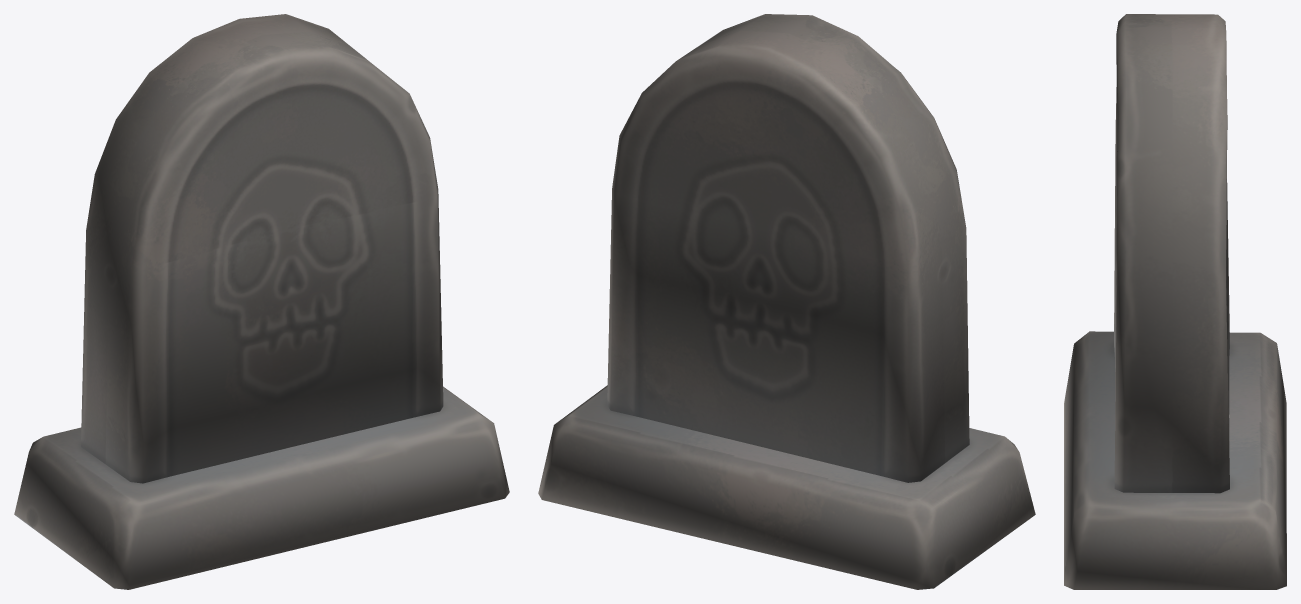
Rendered from ghost3_grave_intact.fbx.
3 views of the same model, side by side, from view 1: azimuth 30°, elevation 25°; view 2: azimuth 150°, elevation 25°; view 3: azimuth 270°, elevation 25° (orthographic).
Parts seen in each view (by area): view 1: grave_low; view 2: grave_low; view 3: grave_low.
Part boxes in pixels (bbox=[...]): grave_low: bbox=[14, 14, 509, 589]; grave_low: bbox=[538, 14, 1035, 589]; grave_low: bbox=[1064, 14, 1286, 589].
Size of the model in its own units: 212 by 242 by 104.
